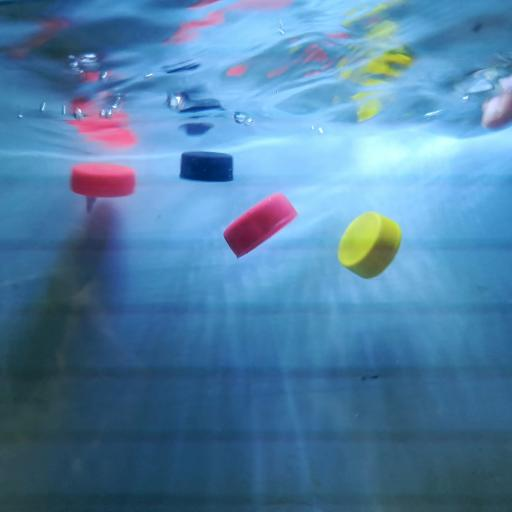bottle_cap: (222, 190, 299, 258), (338, 211, 402, 279), (70, 161, 136, 199), (178, 150, 234, 183)
